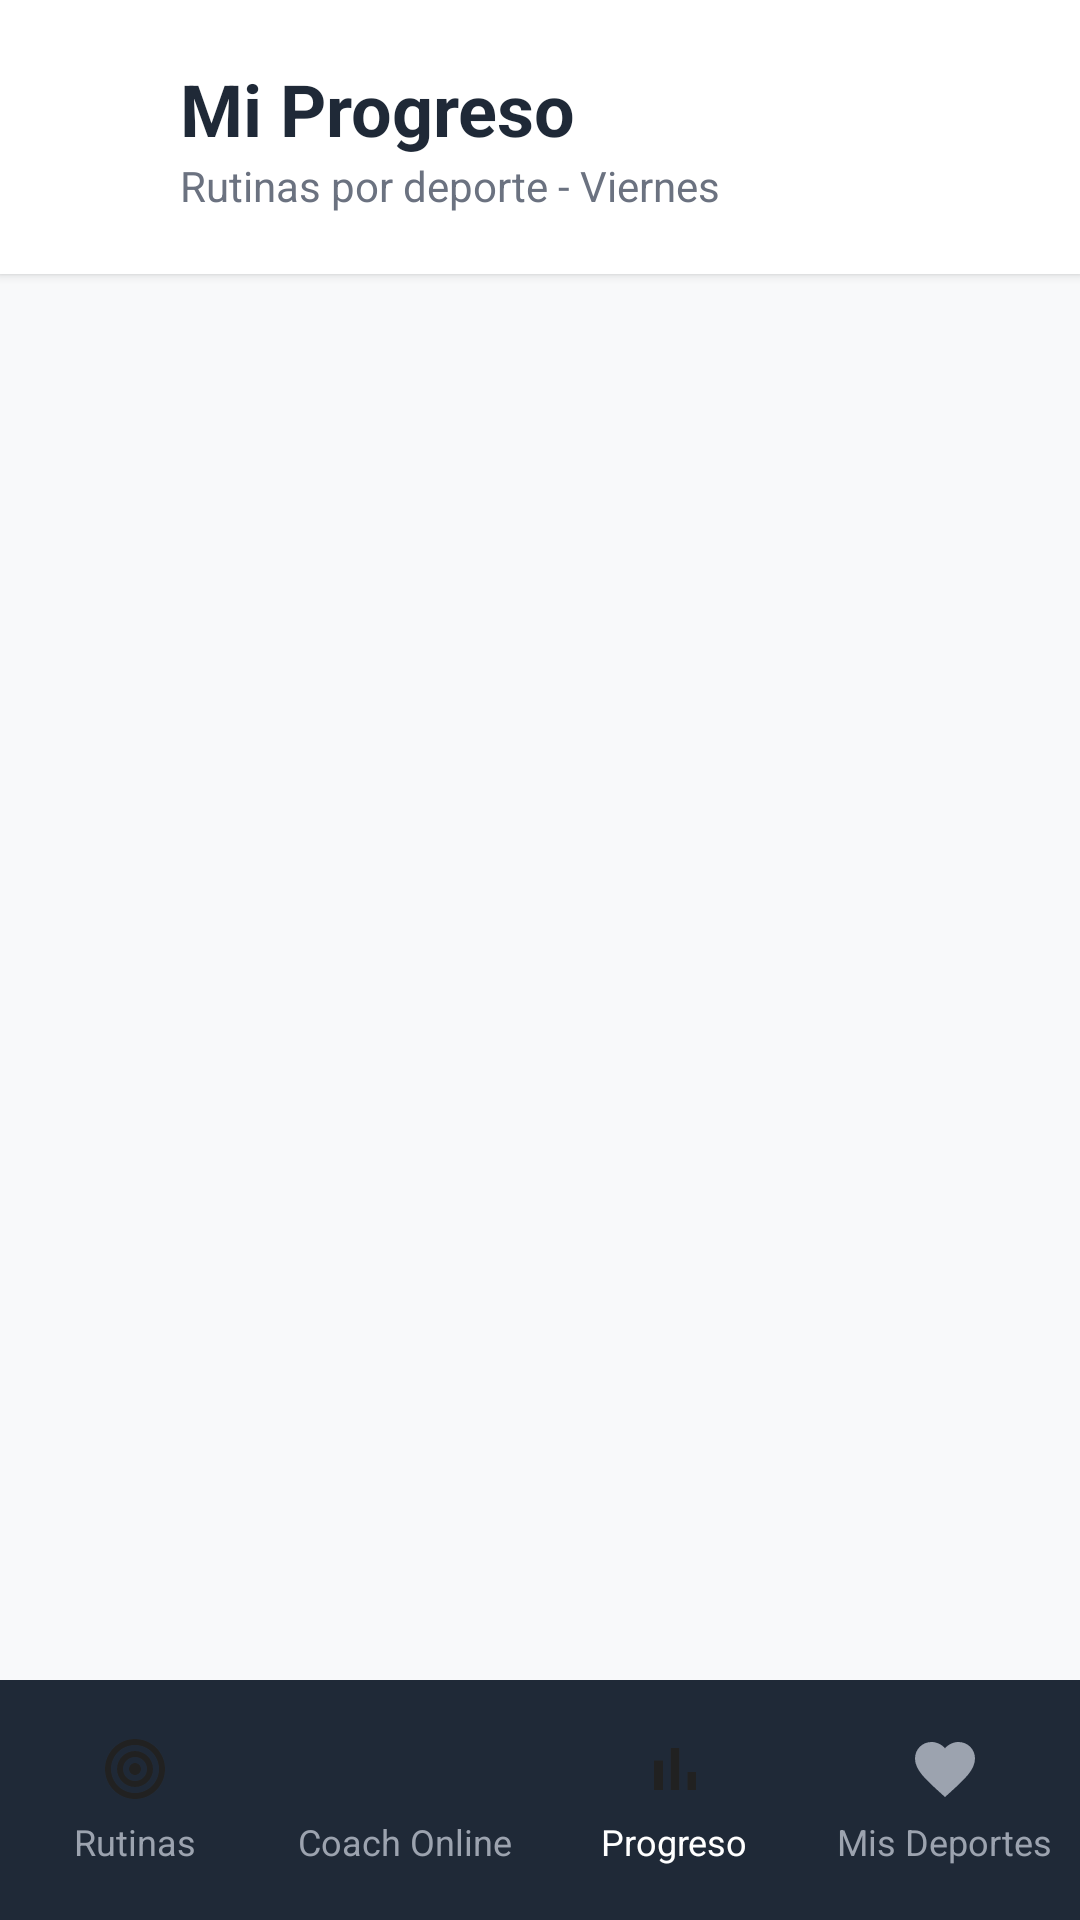

Where to tap for icons on this 1080 × 1920 app screen, as (x=x, y=y):
heart: (x=945, y=1769)
